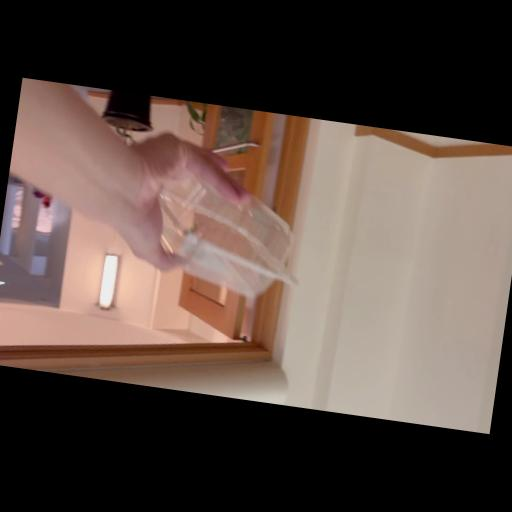small_plastic_container: (146, 170, 310, 304)
